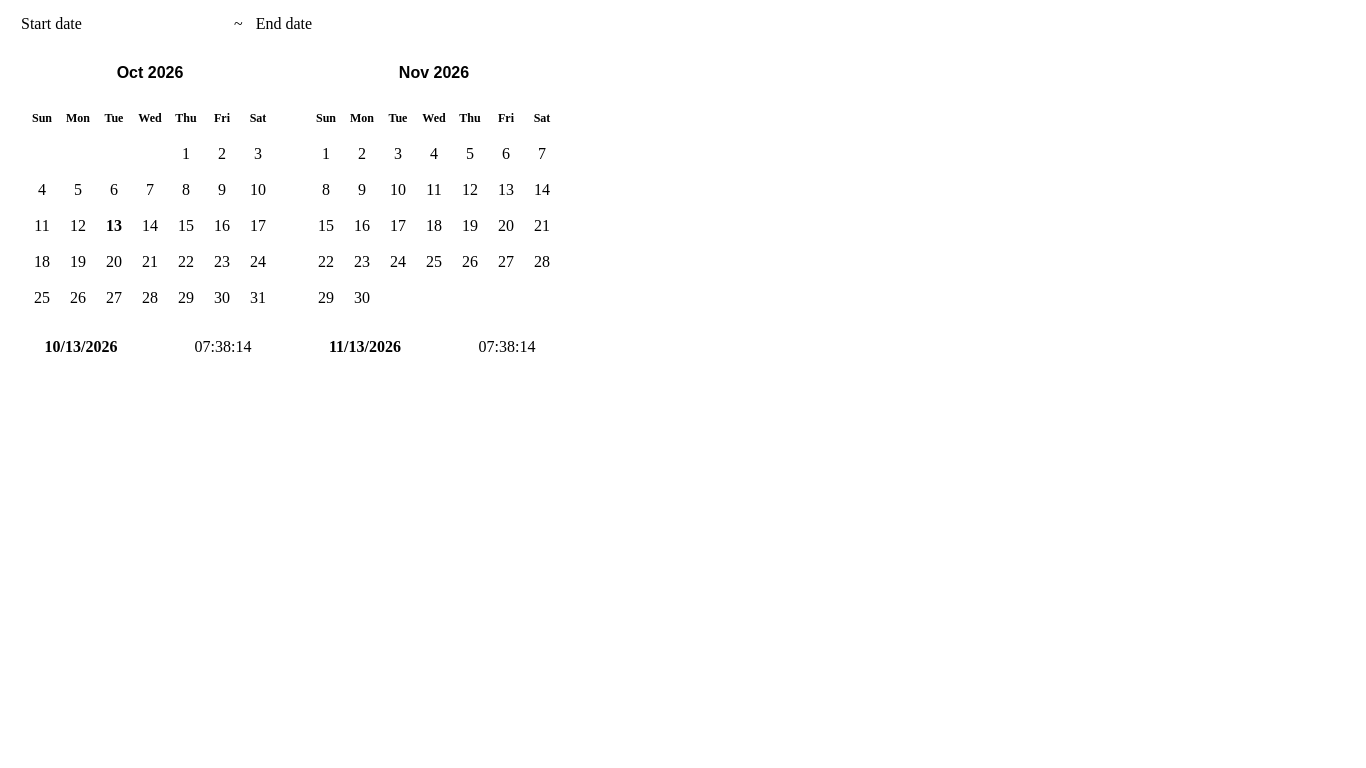
Test: DatePicker 装配对齐 Semi（date 单面板） › dateTimeRange 两侧同时切时间视图：双 tpk 都带 -yam-showing（不塌高）
The width and height of the screenshot is (1366, 768).
Click the button with class "cd-datepicker-switch-time" below "31": (223,346) x1=194 y1=338 x2=251 y2=355
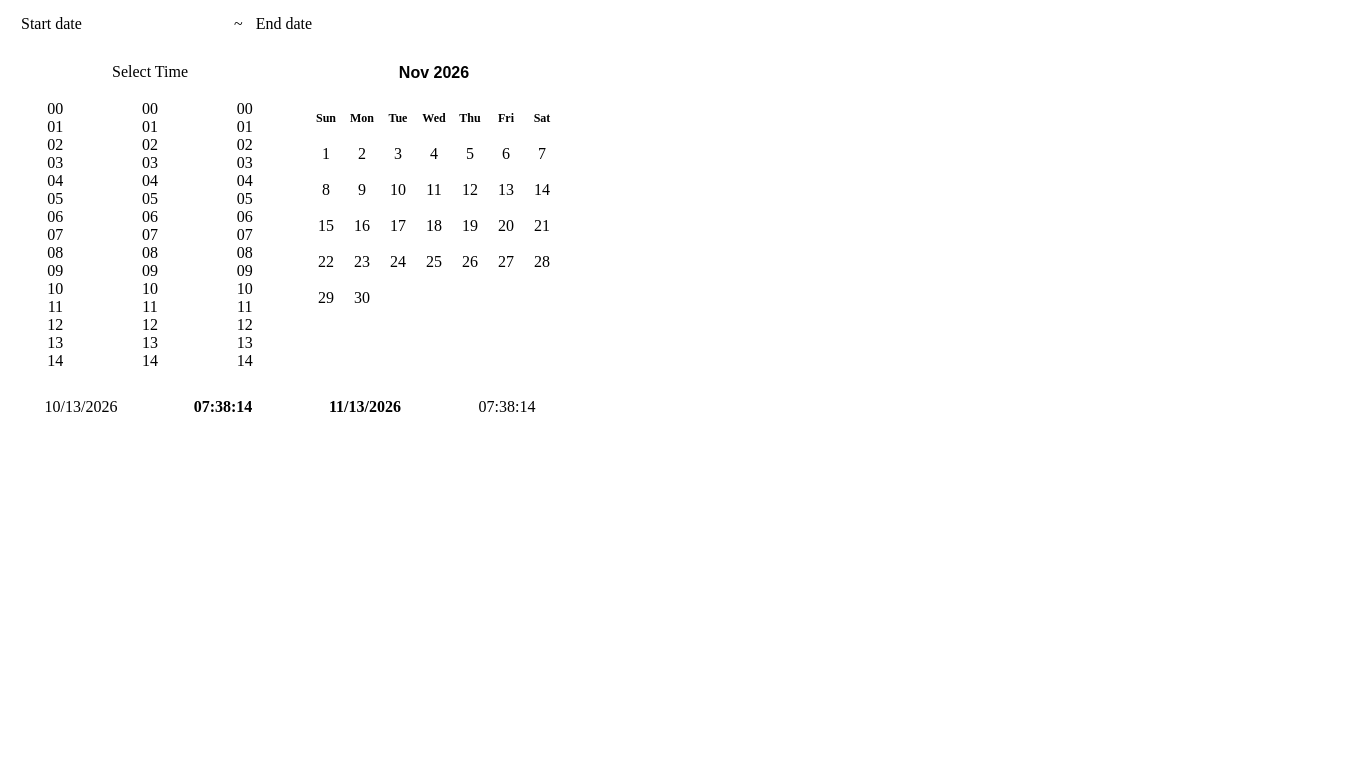
Click the button with class "cd-datepicker-switch-time" below "29": (507,406) x1=478 y1=398 x2=535 y2=415
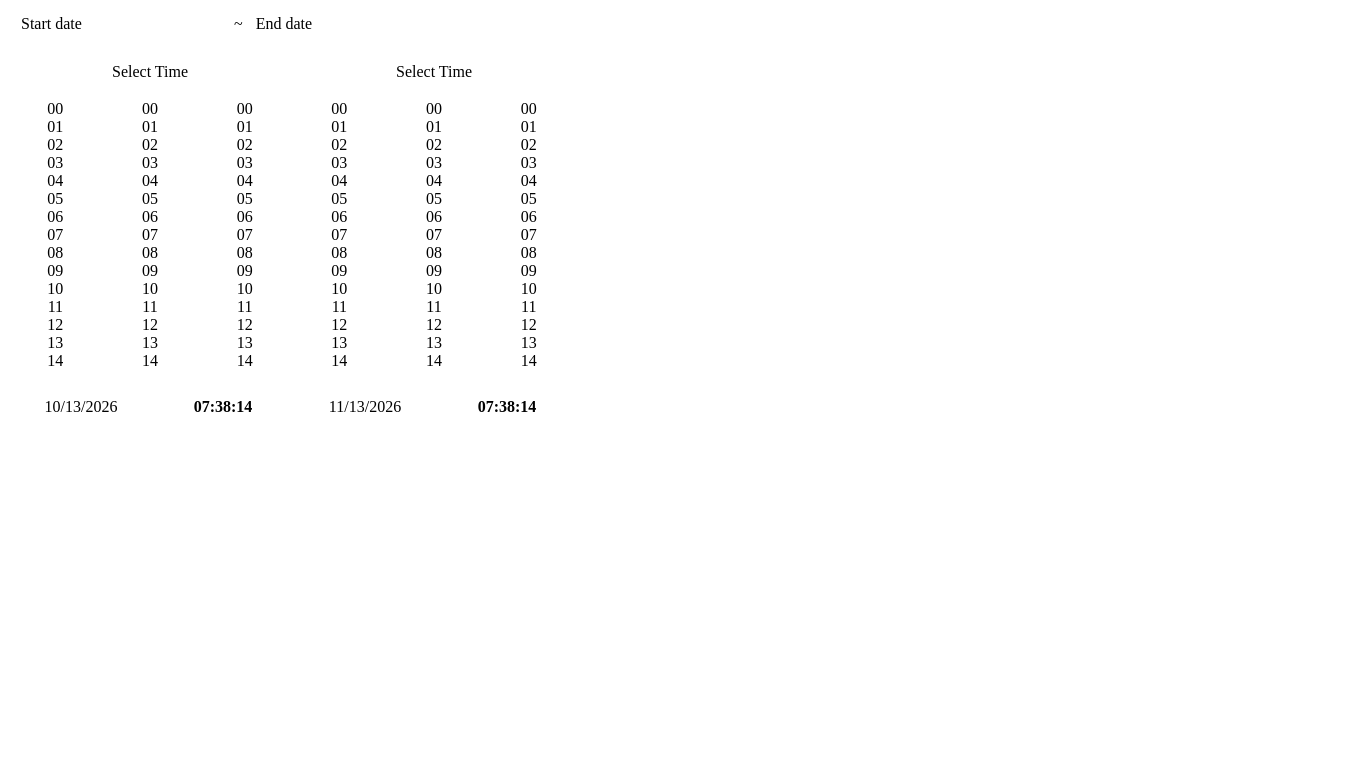
Result: the number of elements with class "cd-datepicker-tpk" is 2 at x1=47 y1=63 x2=253 y2=387; x1=331 y1=63 x2=537 y2=387
